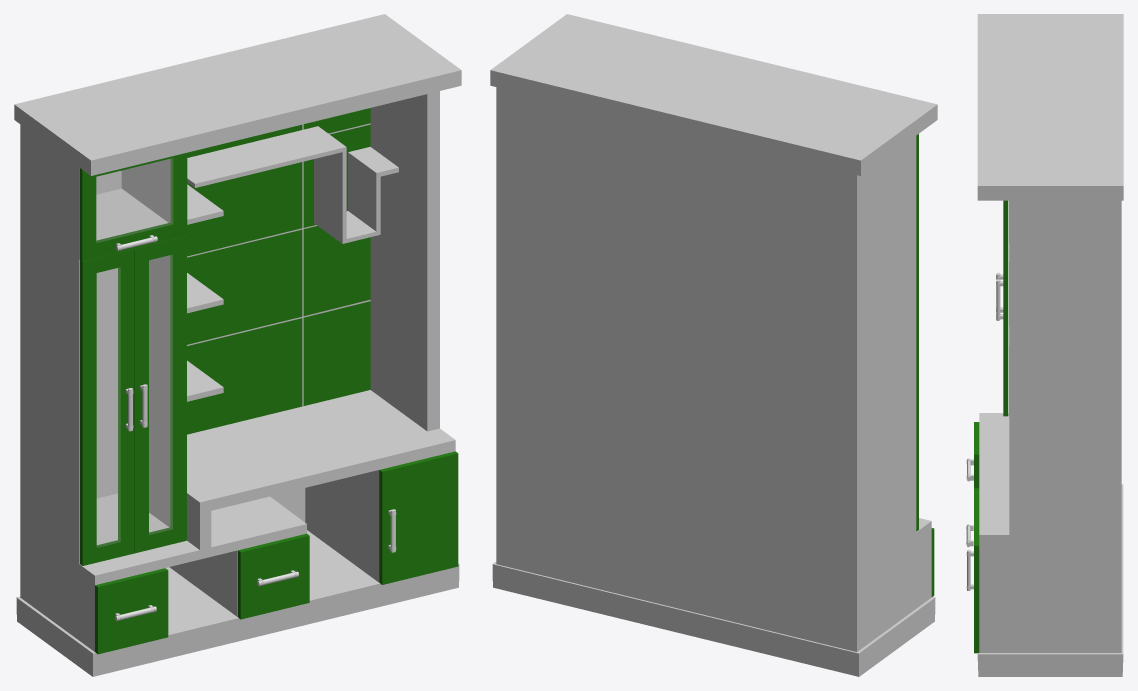
Rendered from lemari_hijau.glb.
The picture shows the model from 3 angles, left to right: view 1: azimuth 30°, elevation 25°; view 2: azimuth 150°, elevation 25°; view 3: azimuth 270°, elevation 25°; orthographic projection. The views are drawn at different scales.
Parts seen in each view (by area): view 1: Cube, Cube.001; view 2: Cube; view 3: Cube, Cube.001.
Part boxes in pixels (bbox=[...]): Cube: bbox=[14, 14, 461, 676]; Cube.001: bbox=[115, 235, 396, 621]; Cube: bbox=[490, 14, 937, 676]; Cube: bbox=[974, 14, 1123, 676]; Cube.001: bbox=[966, 272, 1003, 590].
Size of the model in its own units: 2.79 by 3.71 by 1.07.
